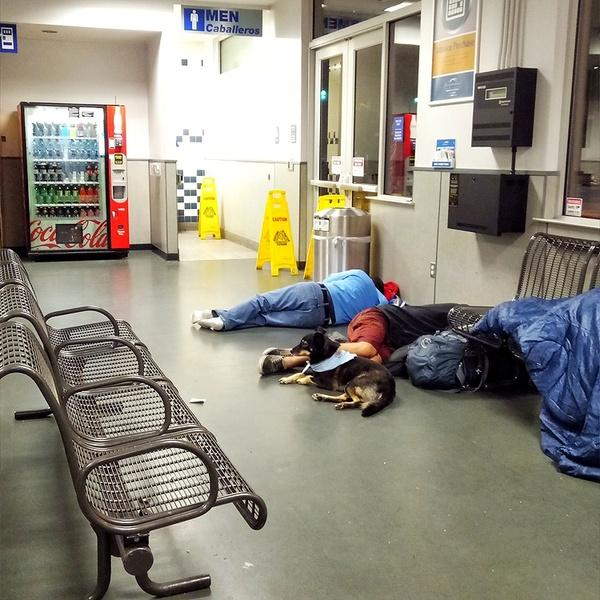fall: (188, 249, 423, 352)
